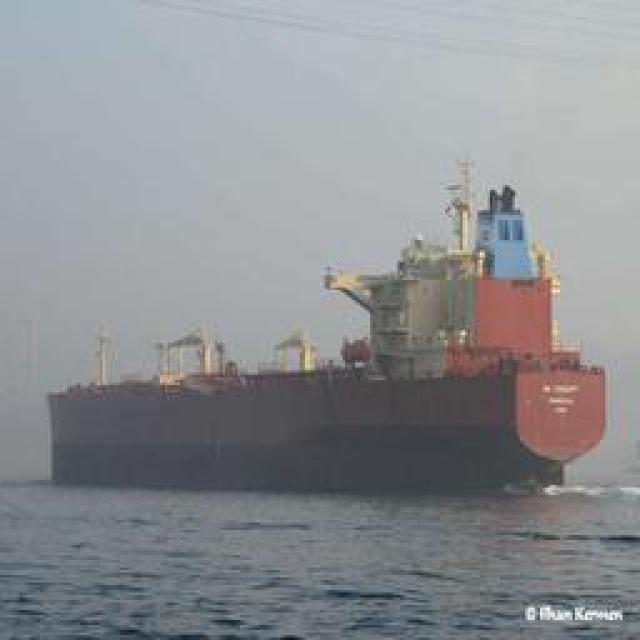Ship: (47, 161, 618, 501)
